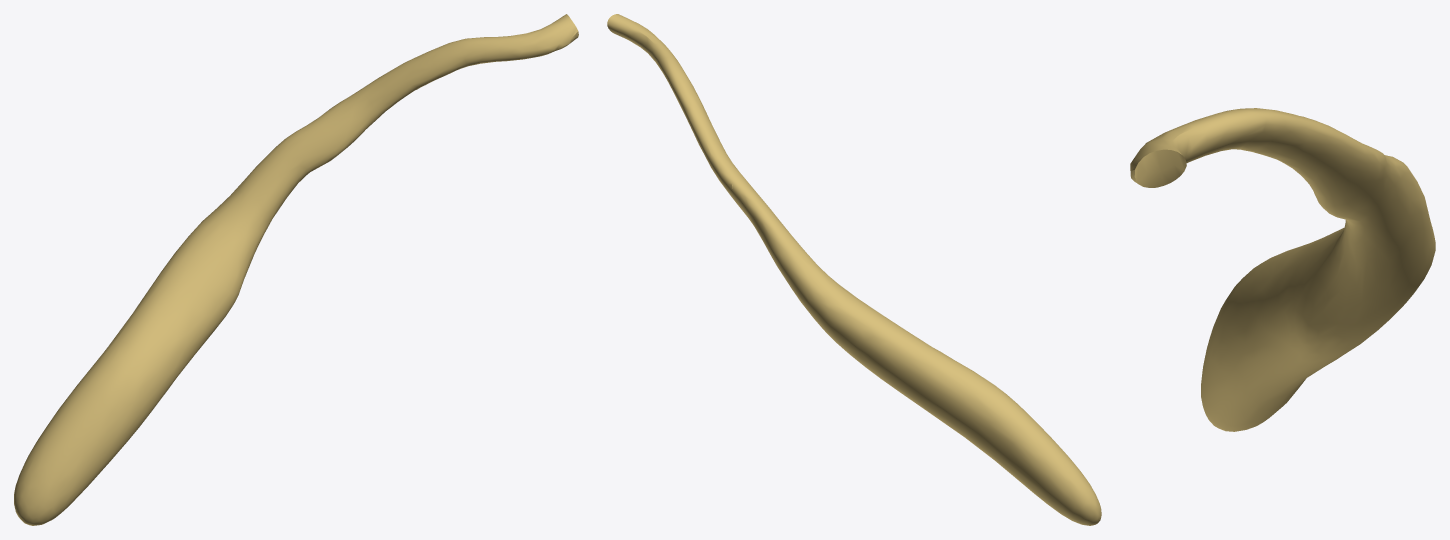
3 renders of one model, left to right at view 1: azimuth 30°, elevation 25°; view 2: azimuth 150°, elevation 25°; view 3: azimuth 270°, elevation 25°, orthographic. The views are drawn at different scales.
Visible parts, largest first — view 1: 右侧绒球脚; view 2: 右侧绒球脚; view 3: 右侧绒球脚.
Part boxes in pixels (left/top/right/bottom): 右侧绒球脚: left=14, top=14, right=578, bottom=525; 右侧绒球脚: left=607, top=14, right=1101, bottom=525; 右侧绒球脚: left=1130, top=108, right=1435, bottom=431.
Bounding box in the file's own units: 0.0491 × 0.0348 × 0.0128.
